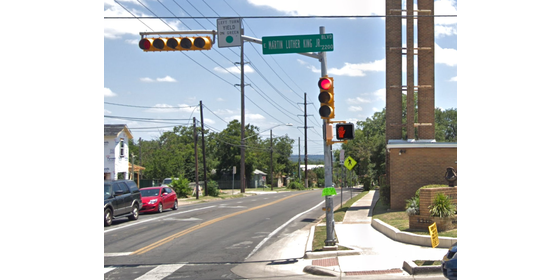left turn yield on green sign: (214, 16, 244, 48)
street name sign: (259, 32, 335, 57)
